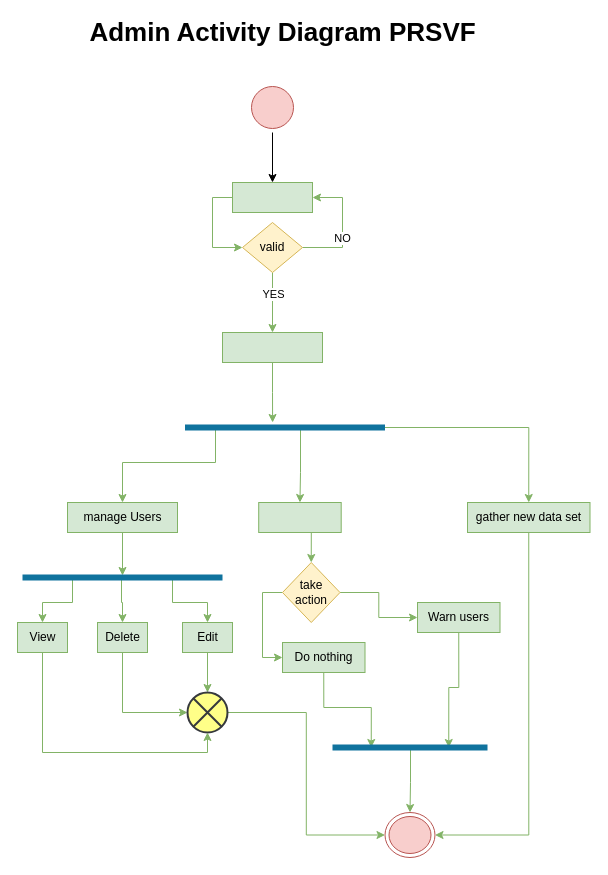
Some shapes in this 608 by 875 pixel diagram are drawn without their labels. The shapes that lost their labels are listed below. From the top down, each one's box as (x1, y1, x2, y2) in pixels, then its label:
(232, 182, 312, 212): Login
(222, 332, 322, 362): Goto Dashboard
(258, 502, 341, 532): view reports
